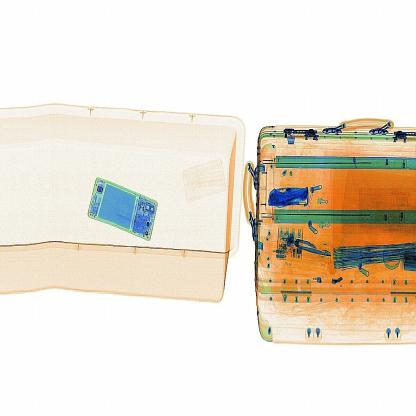knife: (268, 178, 318, 211)
